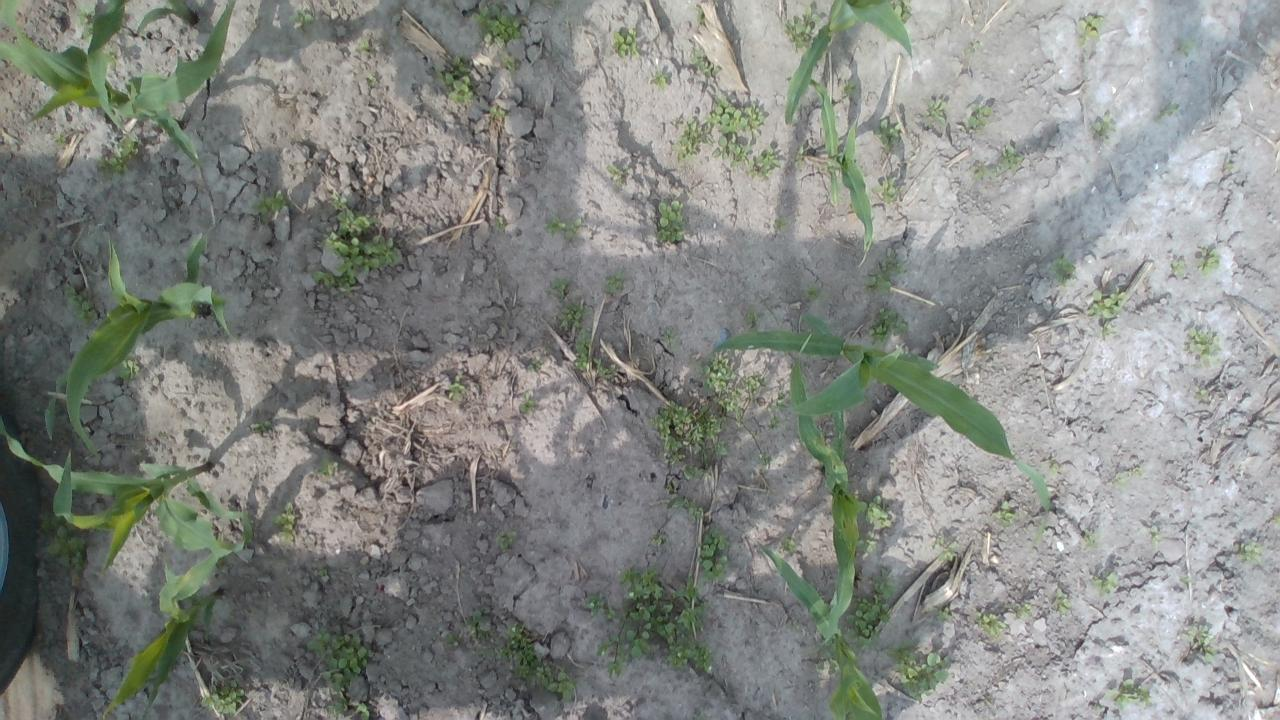Maize: (708, 308, 1050, 542), (0, 0, 239, 224), (44, 230, 230, 460), (0, 416, 247, 583), (102, 514, 253, 720), (756, 540, 887, 720), (788, 362, 868, 653), (782, 0, 914, 126), (807, 76, 874, 269), (134, 0, 197, 39)
Weeds: (618, 566, 718, 674), (490, 623, 577, 701), (647, 401, 728, 465), (324, 230, 401, 296), (841, 566, 896, 648), (887, 638, 951, 704), (304, 625, 374, 683), (36, 510, 94, 572), (714, 374, 769, 424), (706, 96, 766, 135), (95, 135, 143, 182), (472, 4, 522, 48), (330, 190, 376, 236), (698, 526, 731, 586), (670, 118, 714, 161), (697, 350, 736, 397), (438, 55, 475, 102), (865, 253, 907, 294), (782, 6, 821, 50), (870, 308, 909, 350), (200, 683, 246, 718), (64, 284, 98, 328), (1184, 326, 1219, 368), (1106, 678, 1152, 708), (856, 493, 893, 530), (1086, 288, 1128, 320), (746, 144, 783, 180), (321, 668, 348, 716), (656, 199, 685, 243), (1186, 623, 1218, 662), (718, 132, 751, 168), (271, 498, 296, 544), (689, 46, 722, 80), (543, 216, 584, 241), (975, 611, 1010, 638), (610, 26, 640, 57), (997, 142, 1024, 176), (1078, 15, 1104, 49), (256, 189, 286, 218), (557, 304, 590, 330), (1052, 258, 1080, 288), (872, 176, 899, 206), (930, 536, 960, 562), (76, 7, 96, 45), (574, 329, 592, 371), (878, 117, 902, 148), (1090, 114, 1116, 142), (992, 500, 1018, 528), (1091, 570, 1120, 595), (115, 353, 141, 380), (546, 276, 572, 303), (580, 591, 608, 616), (1196, 246, 1220, 275), (888, 0, 914, 26), (966, 103, 992, 128), (1238, 542, 1264, 566), (605, 162, 631, 186), (288, 7, 314, 30), (461, 610, 481, 639), (594, 633, 618, 656), (854, 530, 878, 552), (312, 268, 338, 288), (662, 326, 680, 353), (926, 100, 948, 122), (606, 660, 628, 682), (593, 357, 617, 376), (447, 377, 466, 400), (1054, 590, 1072, 614), (740, 305, 760, 326), (606, 272, 625, 294), (816, 656, 839, 674), (972, 165, 997, 181), (681, 464, 704, 481), (500, 55, 520, 74), (318, 457, 338, 476), (929, 606, 952, 622), (352, 702, 372, 720), (666, 494, 688, 510), (1083, 530, 1100, 550), (766, 413, 782, 434), (496, 531, 513, 550), (518, 394, 534, 414), (771, 388, 784, 412), (250, 418, 272, 432), (652, 70, 669, 88), (352, 38, 369, 56), (103, 46, 118, 66), (774, 216, 790, 234), (802, 284, 818, 302), (495, 214, 509, 234), (840, 80, 857, 96), (688, 503, 704, 520), (525, 356, 544, 370), (1170, 260, 1186, 276), (965, 40, 982, 55), (1158, 104, 1176, 118), (793, 145, 807, 163), (1178, 40, 1194, 55), (1112, 472, 1126, 489), (782, 536, 796, 553), (1104, 321, 1118, 337), (489, 105, 506, 118), (1176, 574, 1190, 589), (1034, 528, 1047, 544), (317, 567, 330, 582), (52, 132, 68, 144), (1194, 385, 1206, 400), (694, 8, 704, 25), (366, 72, 378, 86), (758, 454, 772, 466), (1152, 530, 1162, 546), (815, 424, 826, 438), (1047, 462, 1058, 476), (607, 607, 618, 621), (1021, 604, 1032, 618), (653, 535, 666, 545), (1272, 512, 1280, 528), (1132, 466, 1144, 476), (446, 632, 456, 641), (86, 329, 96, 338), (1224, 160, 1232, 171)
